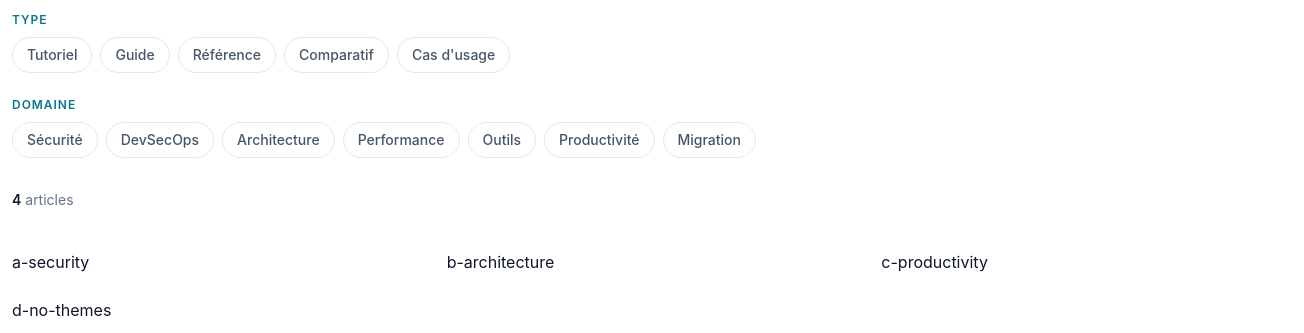
Test: ArticleThemeFilter › toggles a chip and filters articles down to matching themes
Click the button "Sécurité". click: (55, 140)
box: [12,122,98,158]
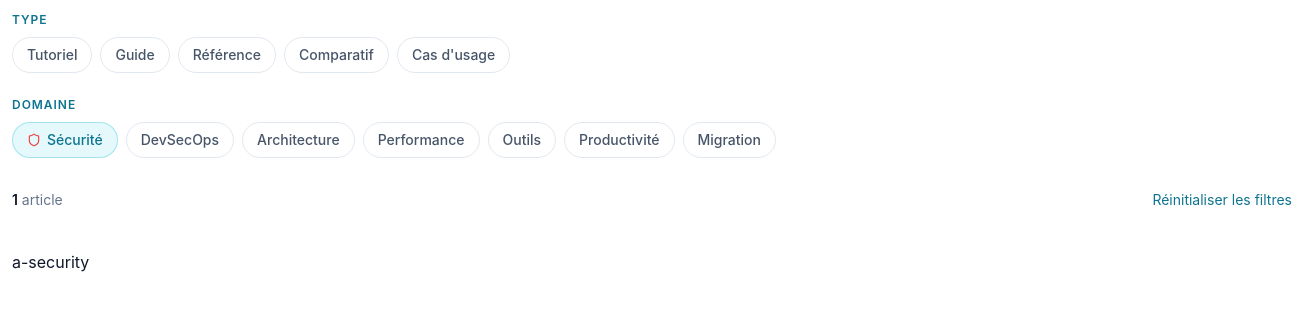
Expected: the text "a-security" is shown, [12,252,89,272]
Expected: the text "b-architecture" is gone
Expected: the text "d-no-themes" is gone
